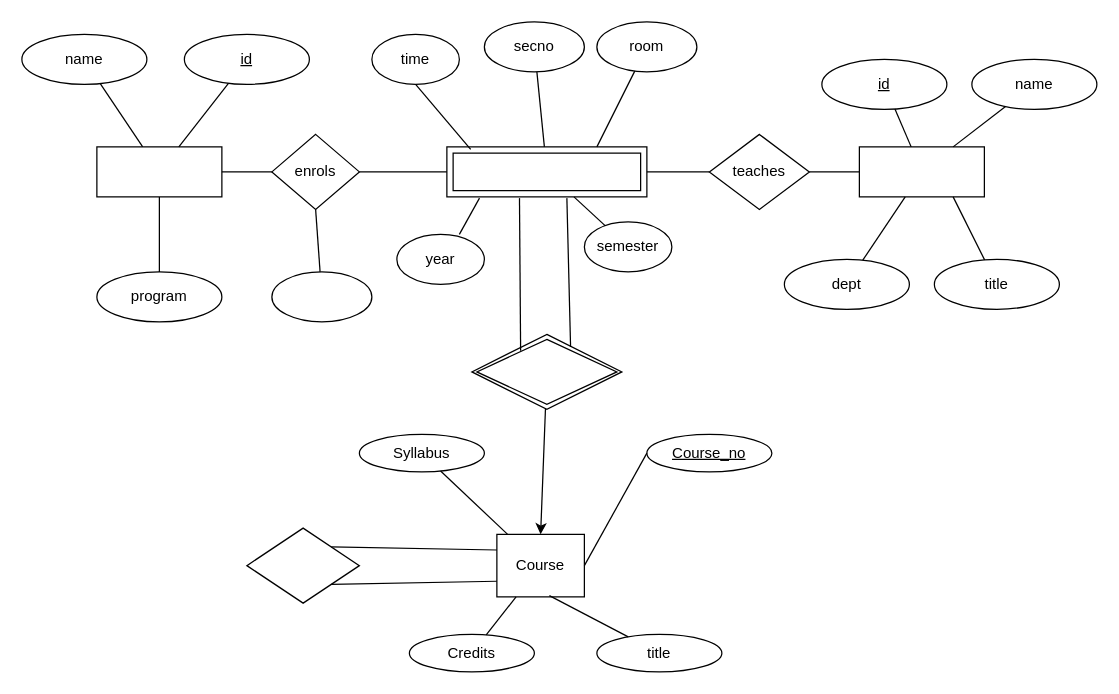
This 1119x694 diagram has some shape labels left out. Here are the shapes that lost their labels. From the top down, the box of each, then its label:
(96, 146, 222, 197): student
(446, 146, 647, 197): course-offerings
(858, 146, 984, 197): instructor
(271, 271, 372, 322): grade
(471, 333, 622, 409): is offered
(246, 527, 359, 603): requires
